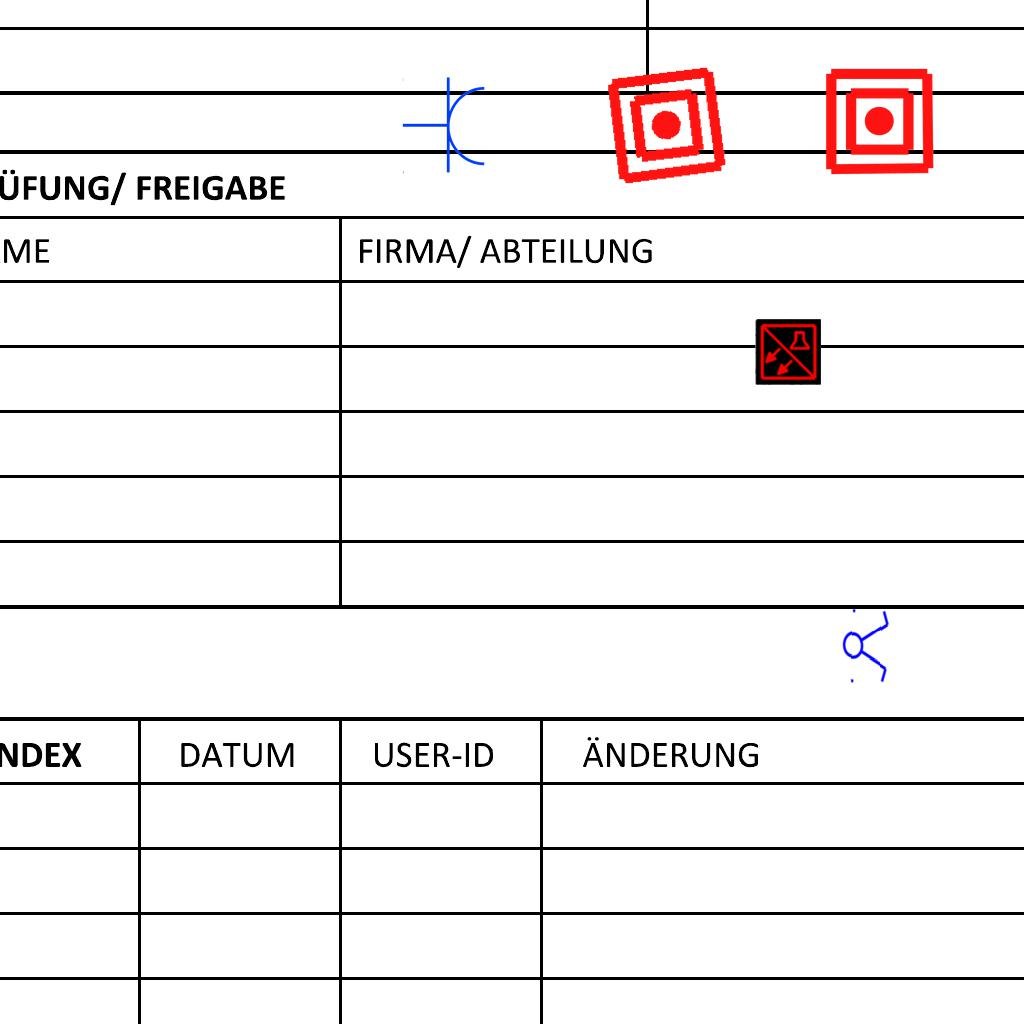NAM-Nichtautomatischer_Melder: (603, 62, 730, 189), (823, 65, 936, 178)
OKW_Multisensormelder_(Kombination_optischer_Rauch-Kahlenmonoxid_Waerme-Melder): (755, 319, 821, 385)
Schukosteckdose_einfach: (402, 76, 489, 176)
Serienschalter: (840, 602, 892, 688)
